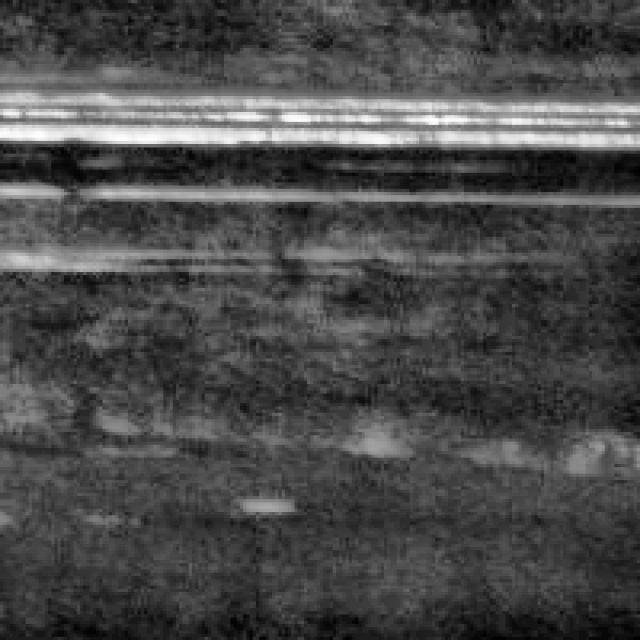Inclusion: (0, 64, 637, 154), (3, 173, 364, 221)
